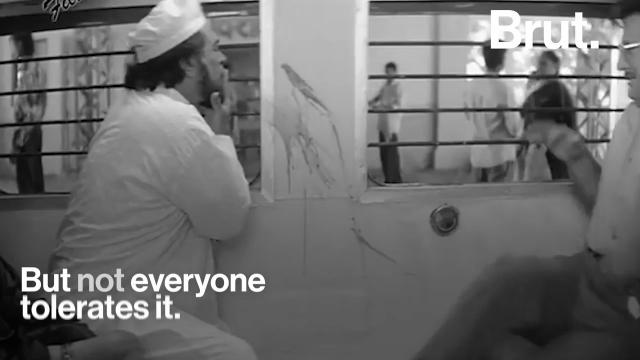spit: (208, 55, 358, 200)
